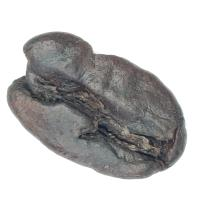NG: (78, 78, 184, 177), (9, 42, 110, 130)
